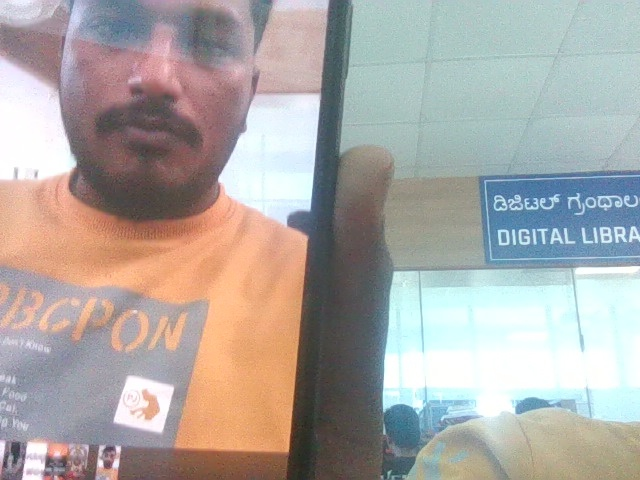fake: (35, 0, 287, 357)
